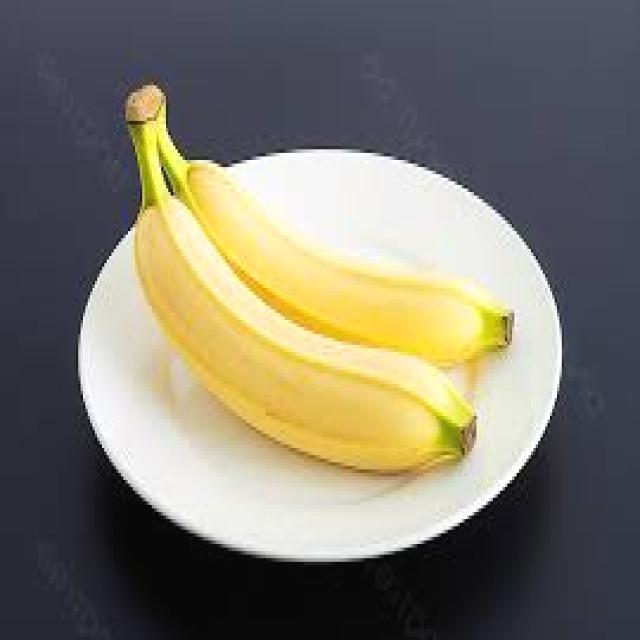pisang: (114, 90, 531, 473)
